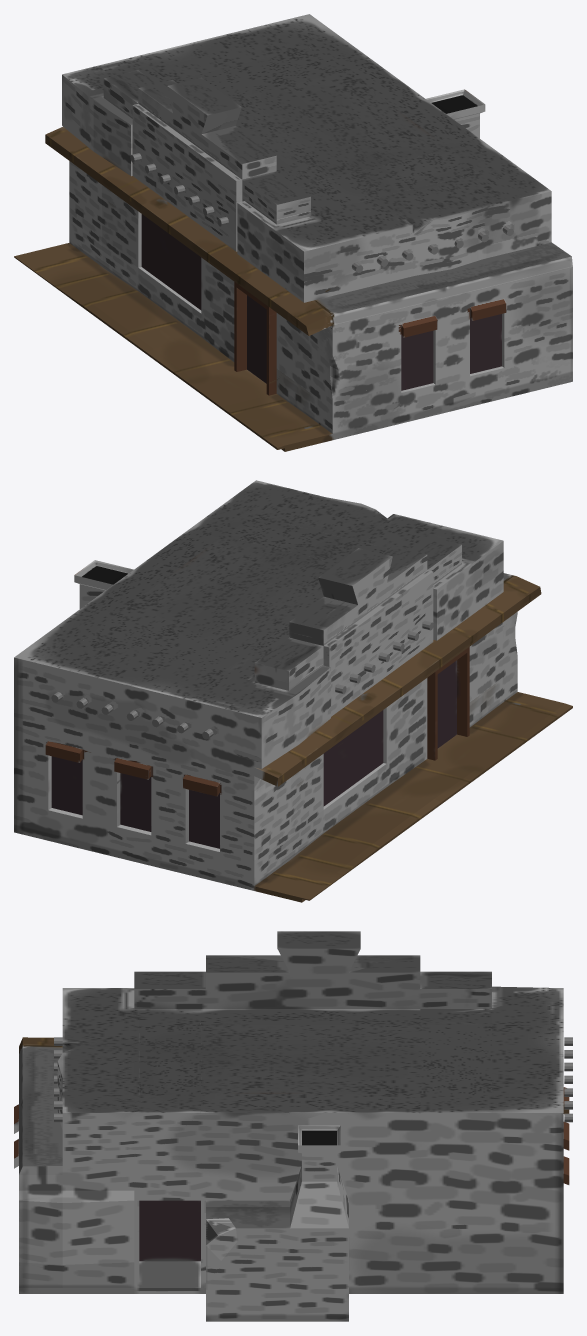
The model's file is General store.obj.
The picture shows the model from 3 angles, top to bottom: view 1: azimuth 30°, elevation 25°; view 2: azimuth 150°, elevation 25°; view 3: azimuth 270°, elevation 25°; orthographic projection. The views are drawn at different scales.
Parts seen in each view (by area): view 1: Cylinder.001_Cylinder.008; view 2: Cylinder.001_Cylinder.008; view 3: Cylinder.001_Cylinder.008.
Part boxes in pixels (x1=…): Cylinder.001_Cylinder.008: x1=14, y1=14, x2=572, y2=451; Cylinder.001_Cylinder.008: x1=14, y1=480, x2=572, y2=902; Cylinder.001_Cylinder.008: x1=14, y1=931, x2=572, y2=1321.
Bounding box in the file's own units: 14.03 × 8.87 × 18.62.
